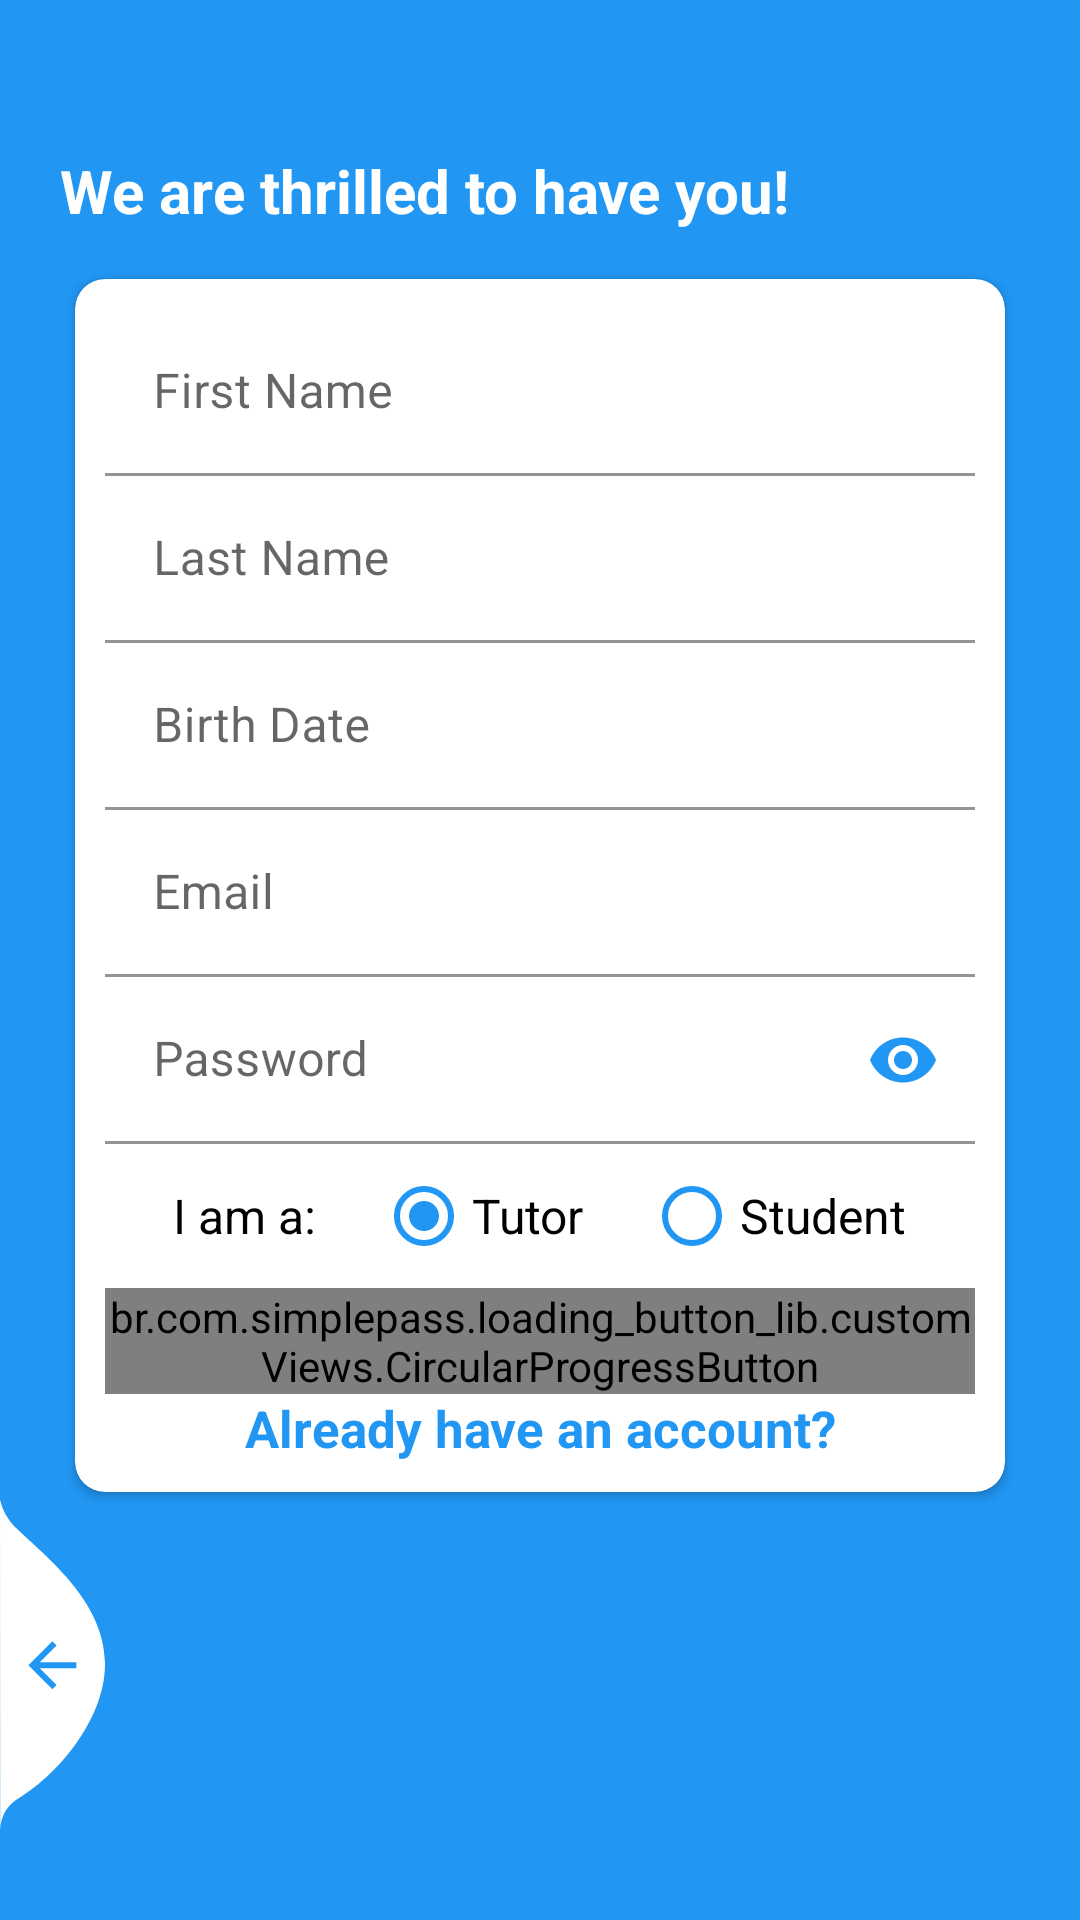

Screen size 1080x1920. Icon name, then its center in pixels as (x=x, y=y):
back: (x=52, y=1664)
